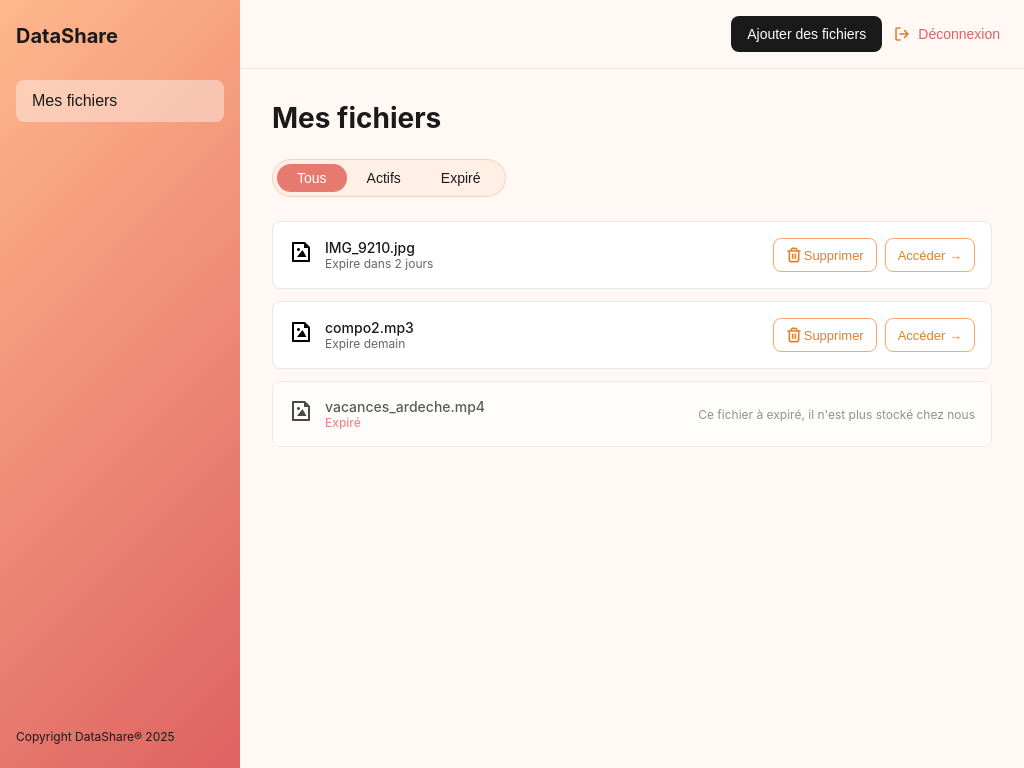
Test case: Dashboard › should filter expired files
Click the button "Expiré". click: (461, 178)
box: x1=421 y1=164 x2=501 y2=192
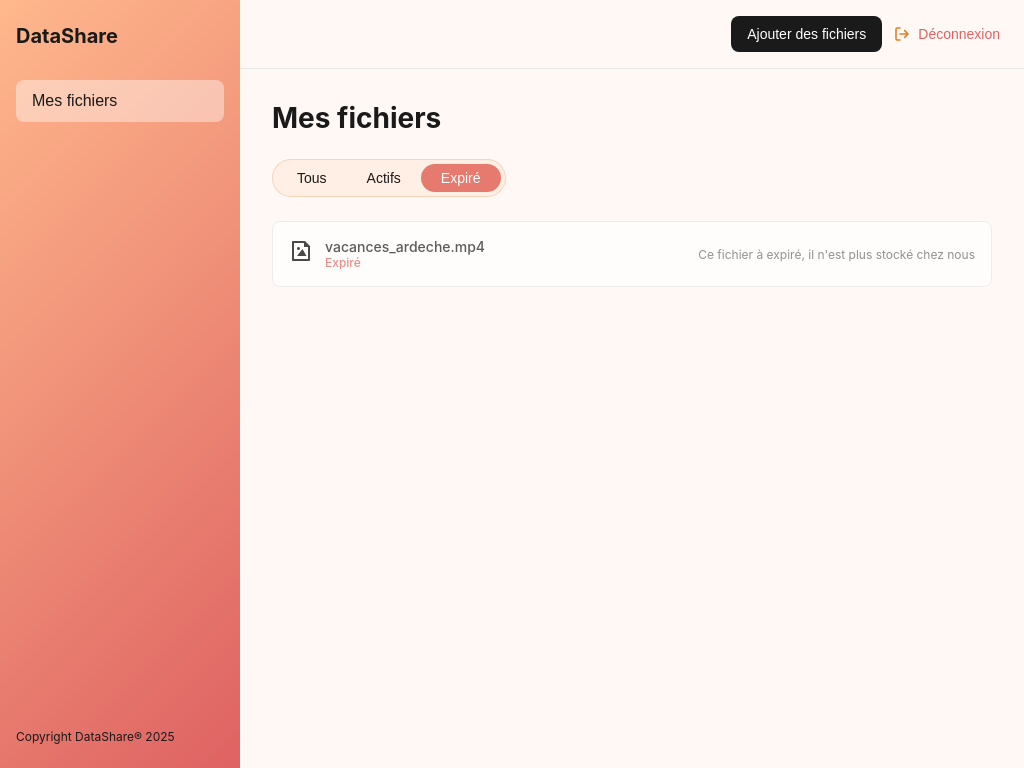
Now the number of list items with class "dashboard__item" is 1, box x1=272 y1=221 x2=992 y2=287
